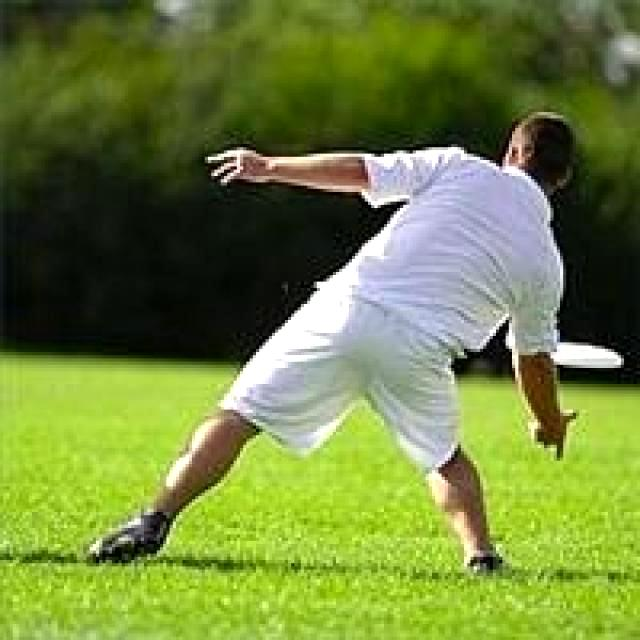no_head_wear: (501, 113, 575, 196), (503, 113, 575, 196)
person: (89, 112, 574, 571)
